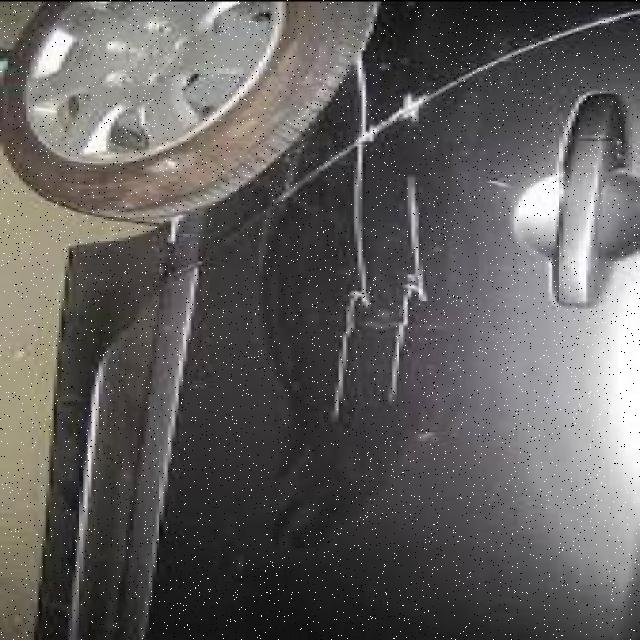damage: (316, 53, 442, 425)
